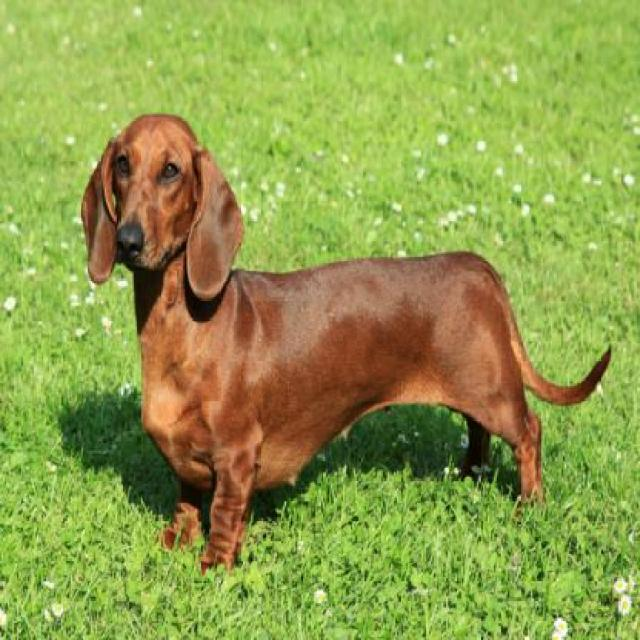Dog: (80, 109, 612, 577)
